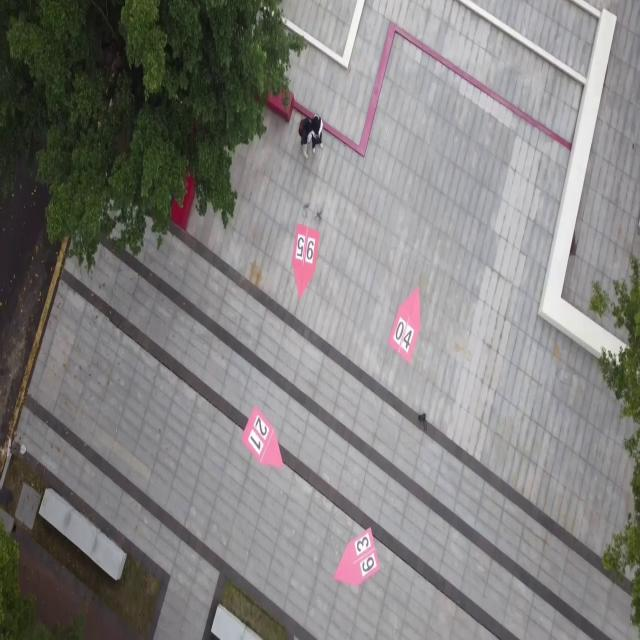-sign-: (241, 404, 284, 472), (335, 528, 381, 589), (389, 286, 422, 365), (292, 223, 319, 300)
